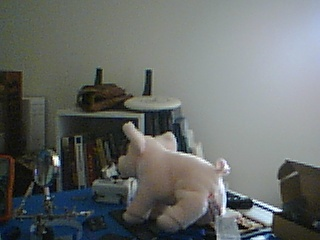piggy: (116, 120, 231, 232)
